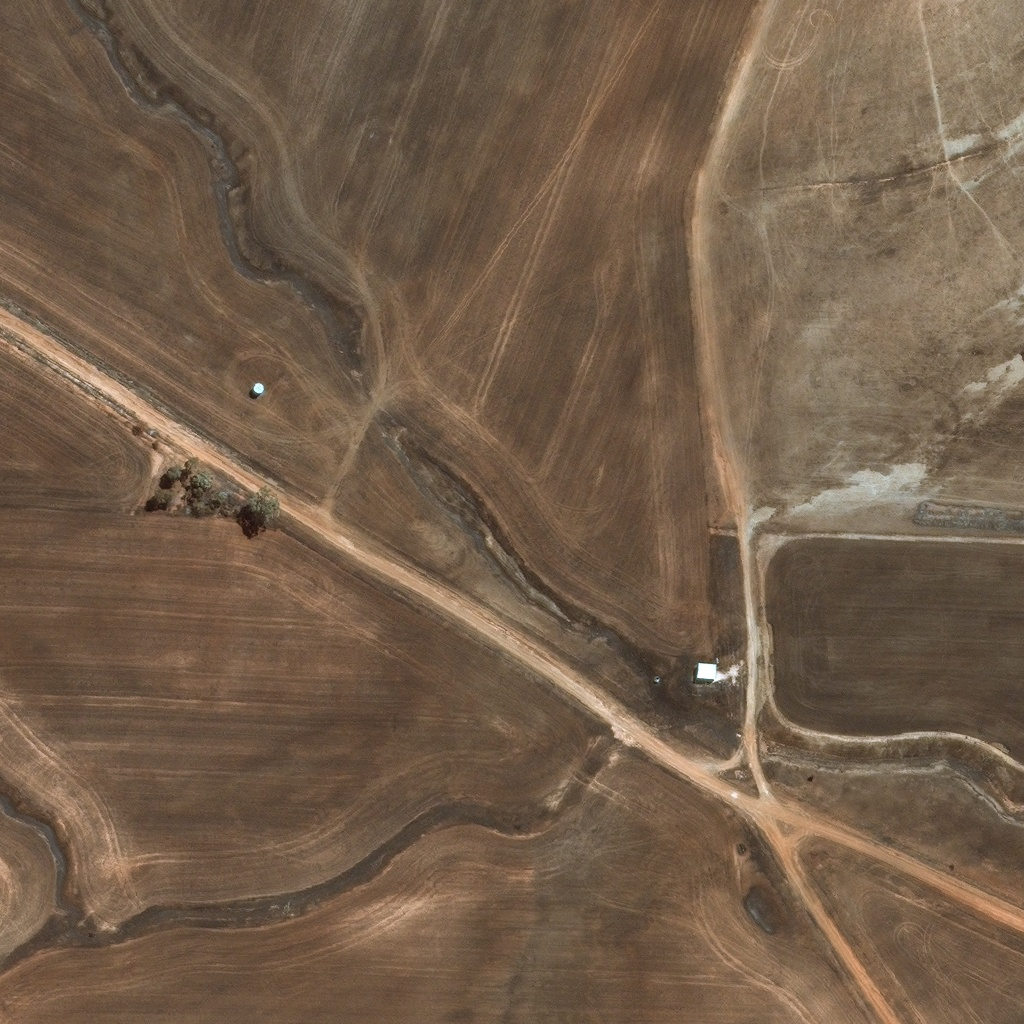0 no-damage: (697, 663, 716, 679)
